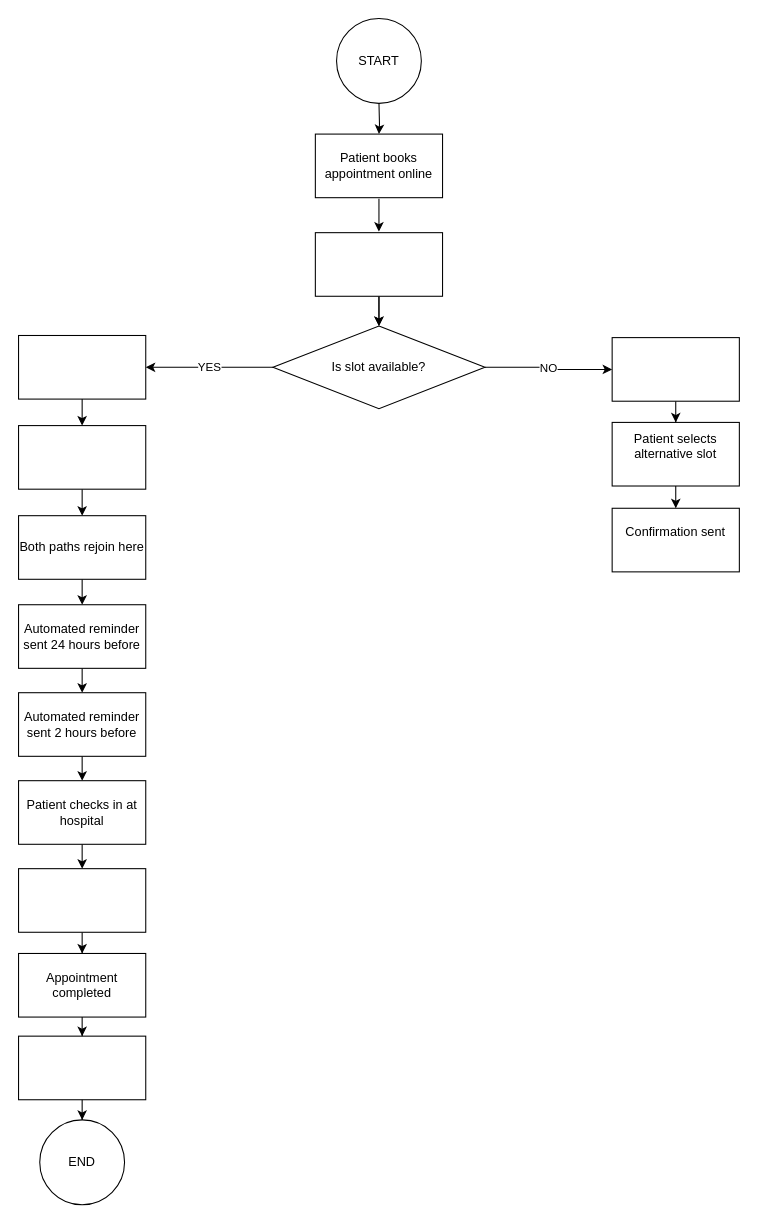
This 758x1223 diagram has some shape labels left out. The shapes that lost their labels are listed below. From the top down, each one's centre as x and y in pixels, then its label:
(x=378, y=264): System checks doctor availability in real time
(x=81, y=366): Slot confirmed automatically
(x=675, y=369): Patient shown next available slots
(x=81, y=457): Confirmation SMS and email sent to patient
(x=81, y=900): Doctor views digital schedule
(x=81, y=1067): Auto invoice triggered
